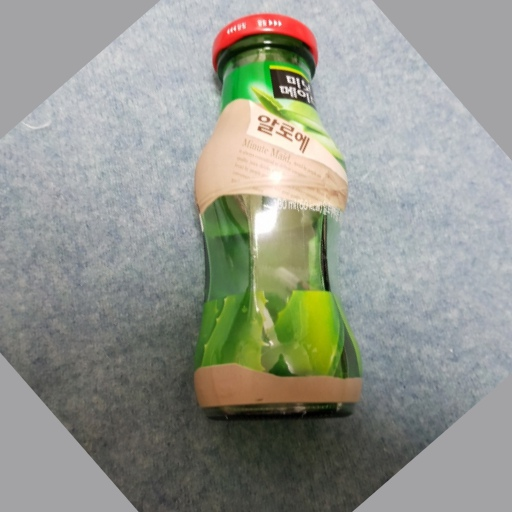Glass_4: (188, 16, 377, 430)
